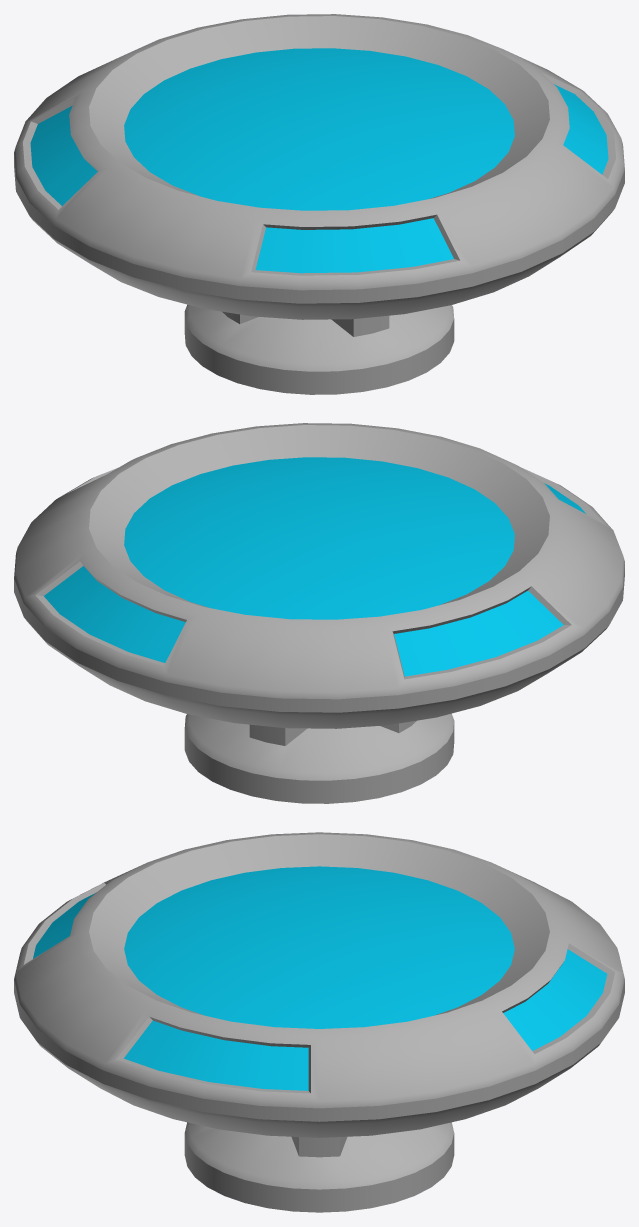
Rendered from CenterConsole.fbx.
The picture shows the model from 3 angles, top to bottom: view 1: azimuth 30°, elevation 25°; view 2: azimuth 150°, elevation 25°; view 3: azimuth 270°, elevation 25°; orthographic projection.
Parts seen in each view (by area): view 1: Circle; view 2: Circle; view 3: Circle.
Part boxes in pixels (box(x1,y1,x2,y2)): Circle: box(14, 14, 624, 394); Circle: box(14, 423, 624, 803); Circle: box(14, 832, 624, 1212).
Size of the model in its own units: 78.91 by 31.93 by 78.91.
